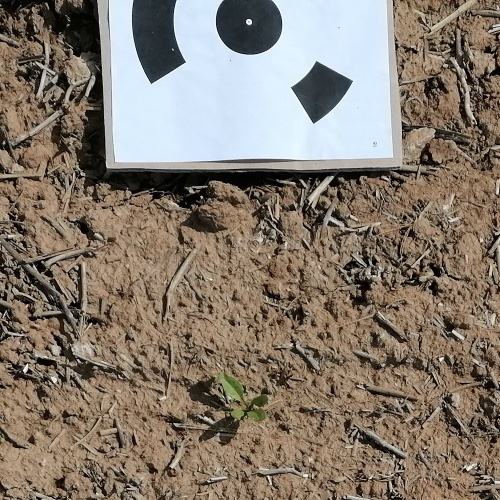beet: (218, 373, 269, 423)
